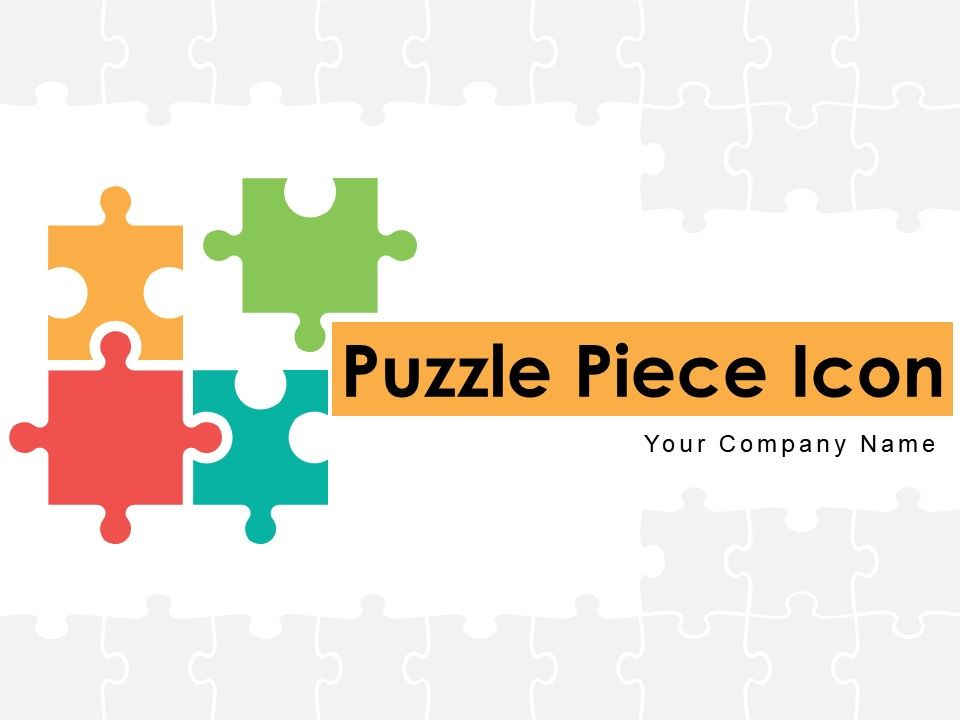puzzle piece: (192, 159, 442, 356), (1, 335, 227, 546), (185, 349, 349, 554), (26, 176, 195, 372)
